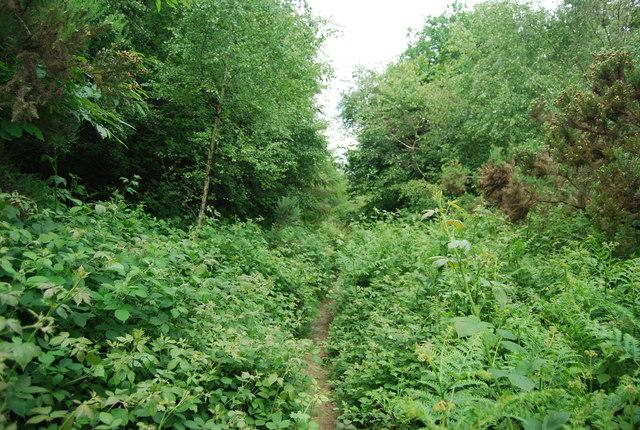overgrown grass: (327, 204, 639, 429), (0, 231, 314, 428), (38, 202, 334, 275)
